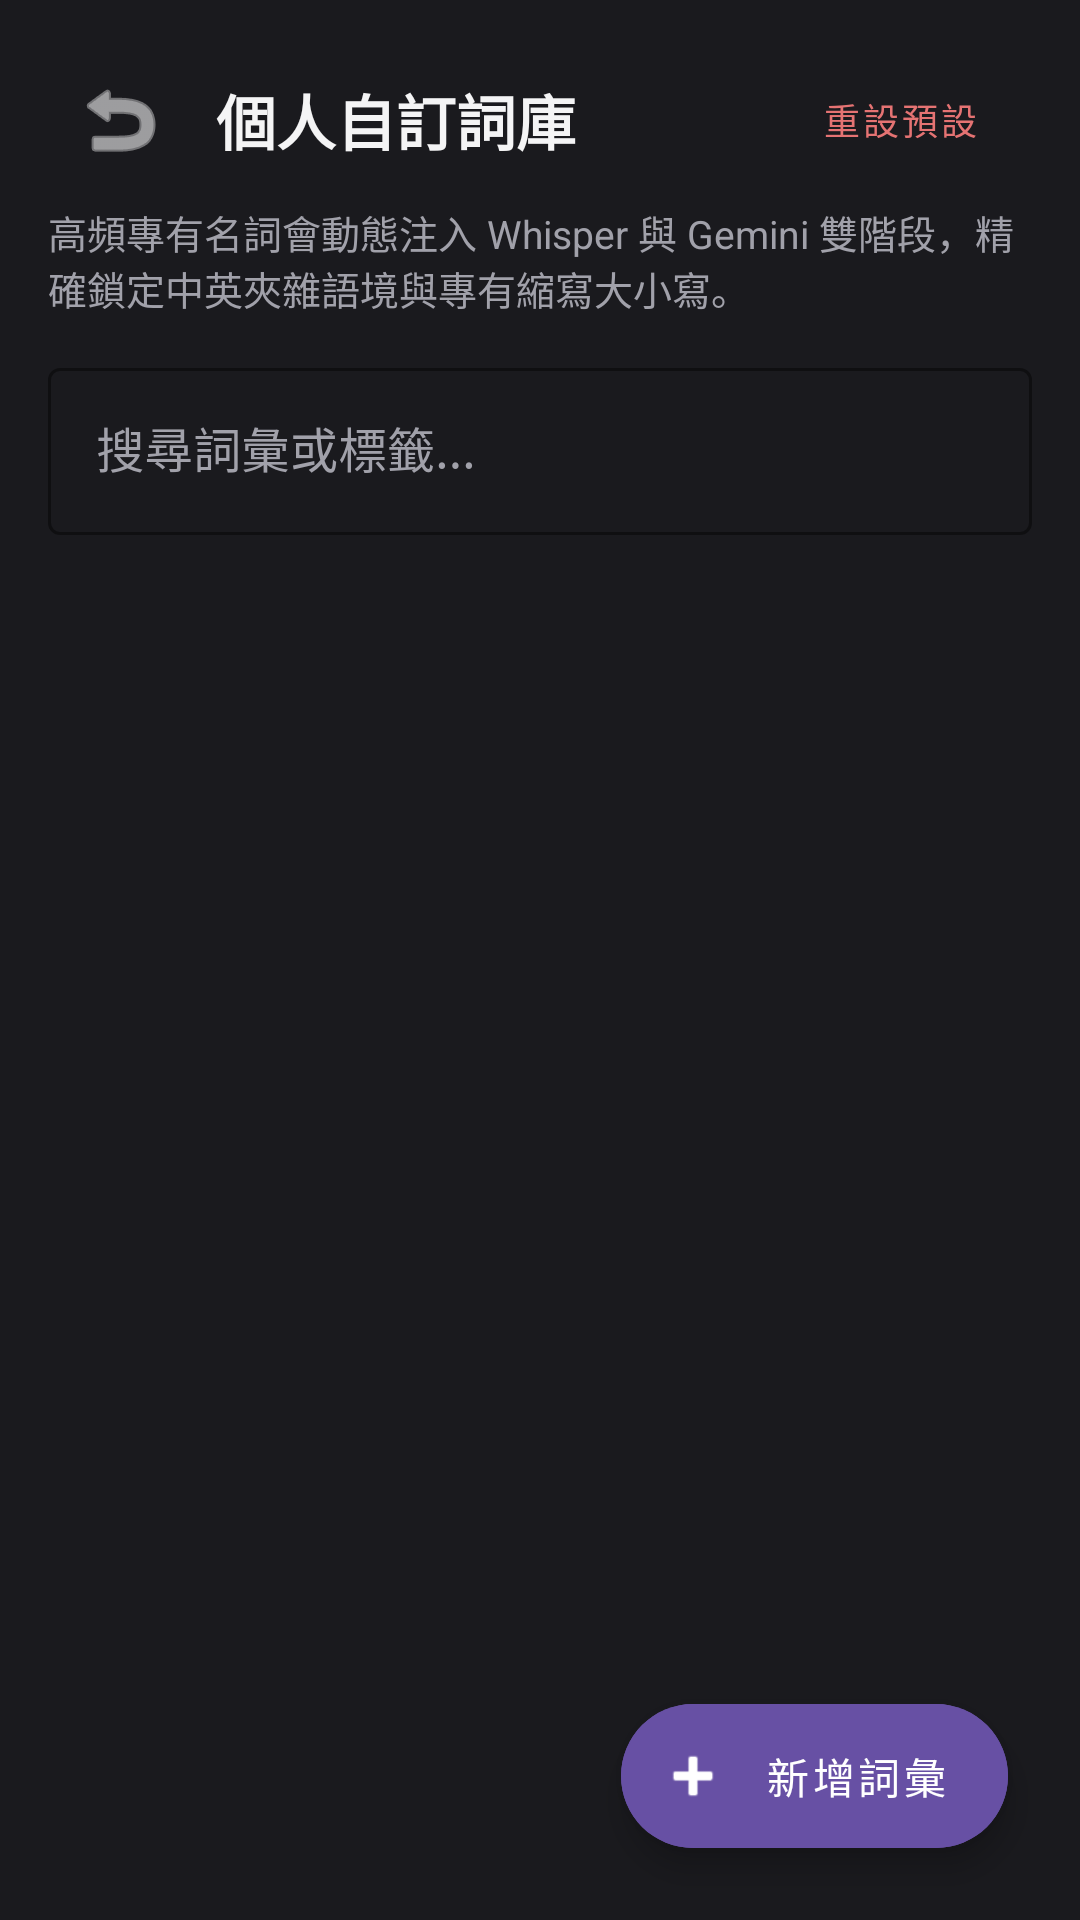

Where to tap for icons on this 1080px×1920px app screen, as point (x, y):
返回: point (121, 120)
